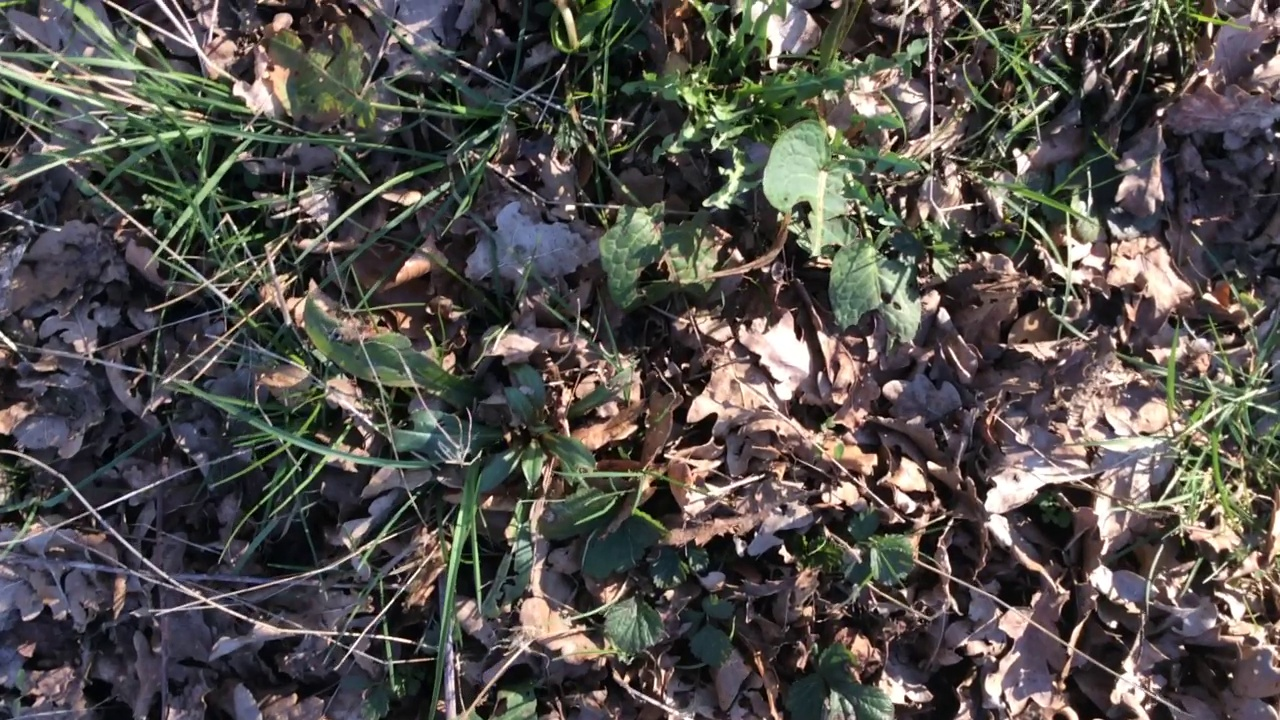rumex: (603, 117, 923, 340)
